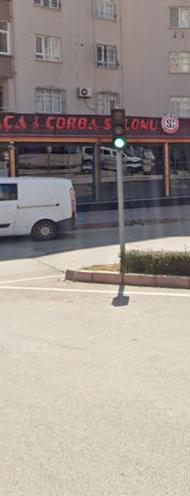greenlight: (110, 107, 127, 149)
